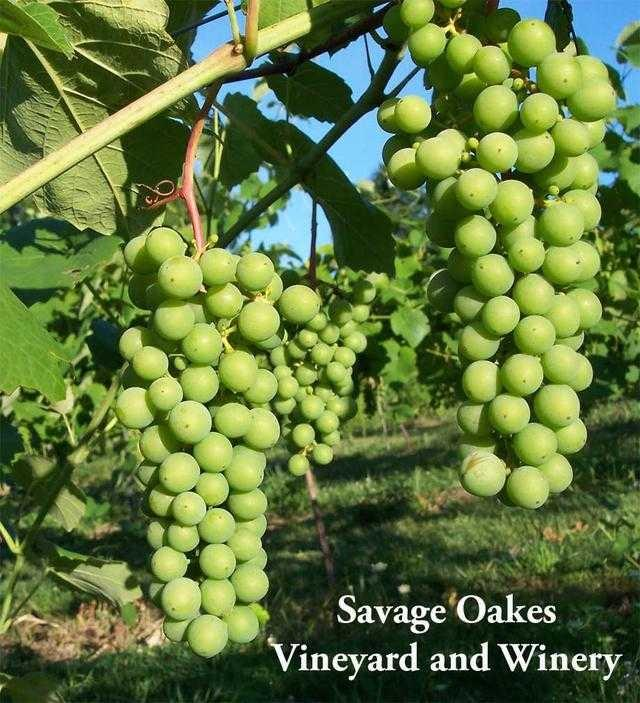Grape Unripe: (381, 6, 622, 515), (102, 227, 305, 658), (268, 269, 363, 489)
